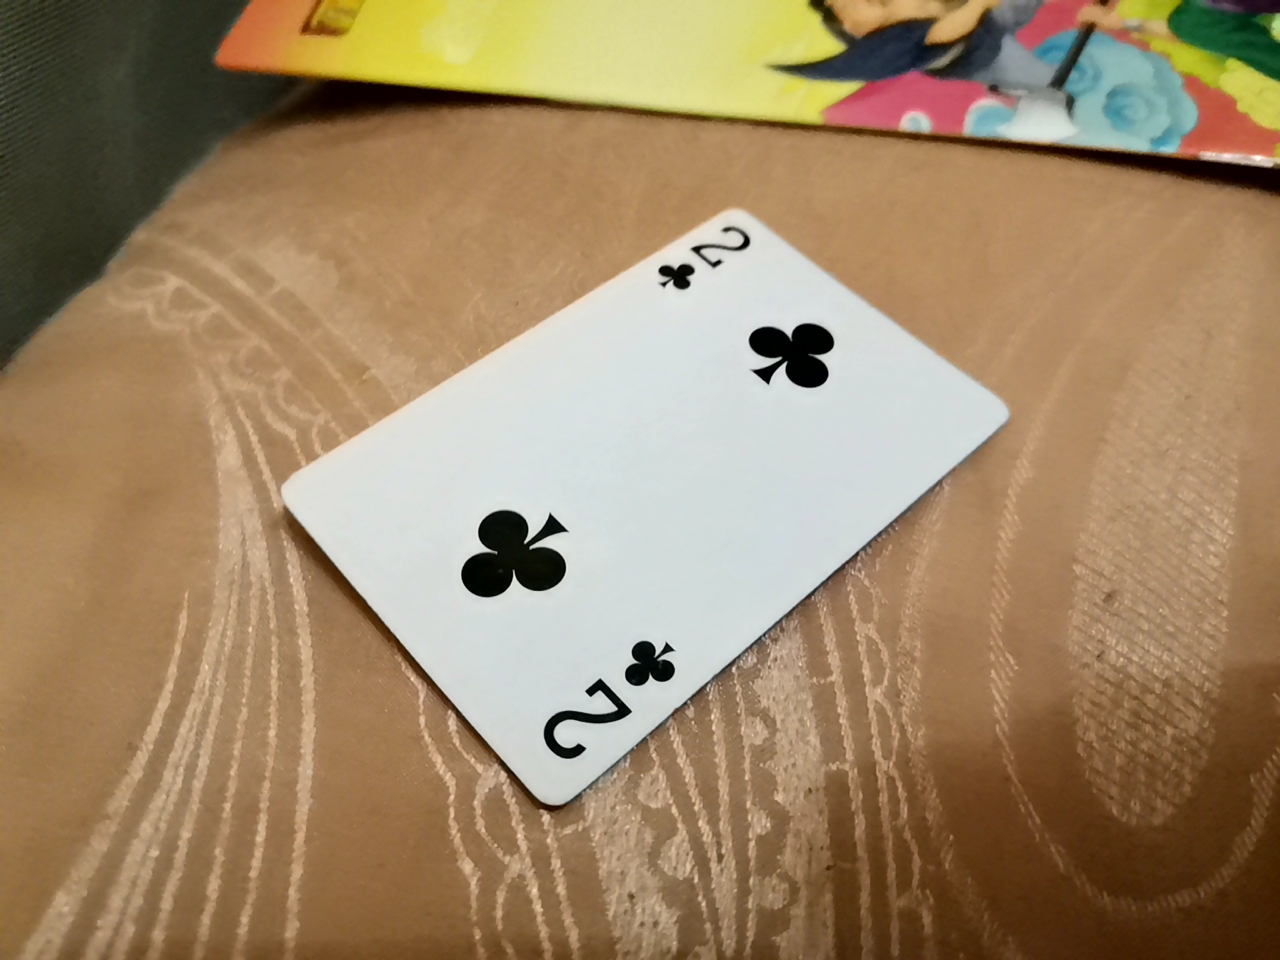mh 2: (234, 214, 982, 853)
